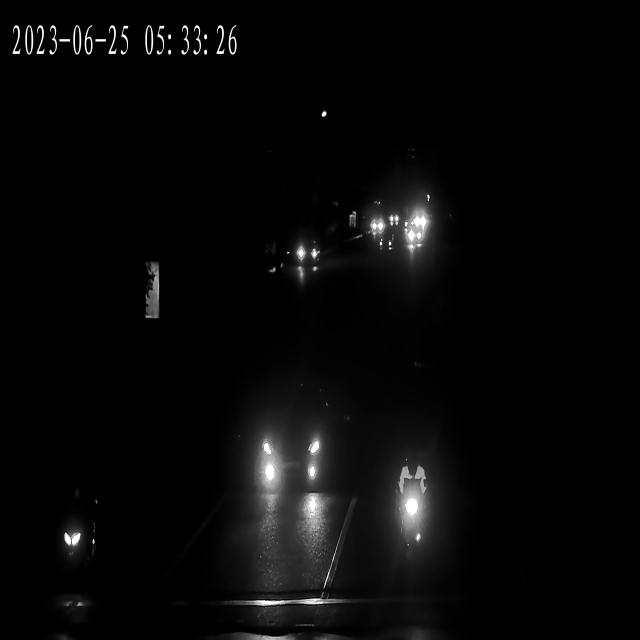Car: (258, 382, 334, 483), (294, 234, 321, 279), (403, 222, 422, 255), (364, 212, 380, 243), (386, 214, 398, 232)
Motorcycle: (64, 466, 109, 588), (399, 458, 435, 580)
